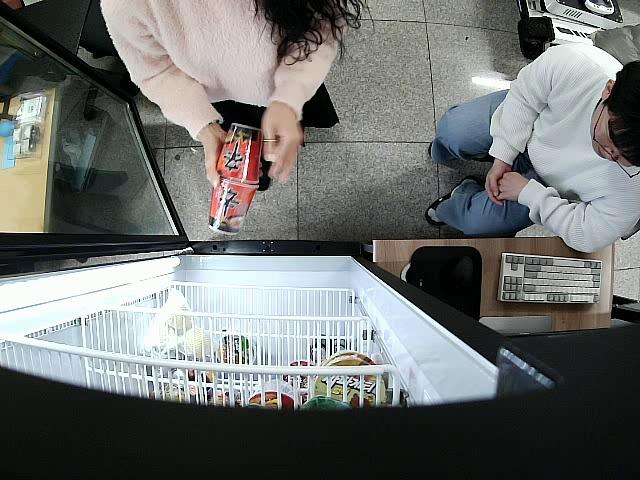00_hand: (261, 109, 303, 183)
02_shinRamen_S: (216, 121, 263, 184), (207, 179, 258, 233)
